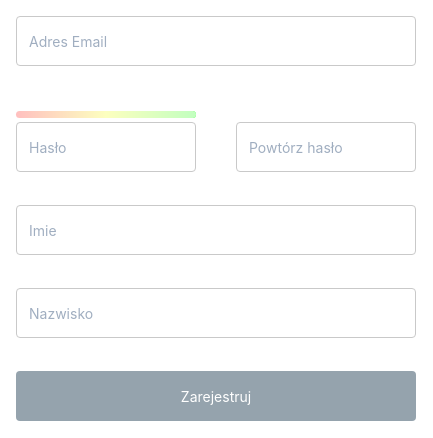
Scenario: Register › should enable submit button after correctly filling form
The width and height of the screenshot is (433, 438).
Expected: the button with test id "submitWrapper" is disabled, [16,371,416,421]
In the field with placeholder "Adres Email": coordinates (216, 41) [16,16,416,66], type "gmail.com"
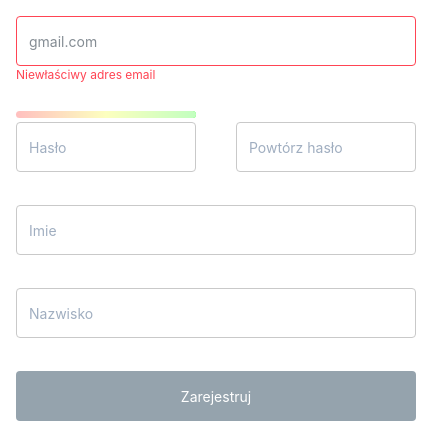
Replace the text in the field with placeholder "Adres Email" with "mockedEmail@gmail.com": coordinates (216, 41) [16,16,416,66]
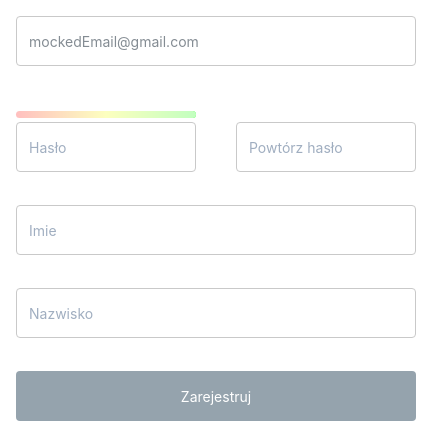
In the password field with placeholder "Hasło": coordinates (106, 147) [16,122,196,172], type "mockPassword"
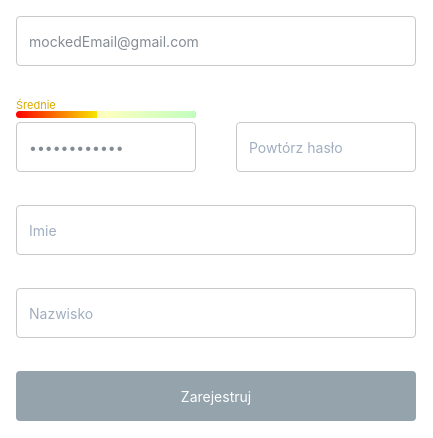
In the password field with placeholder "Powtórz hasło": coordinates (326, 147) [236,122,416,172], type "mockPassword"
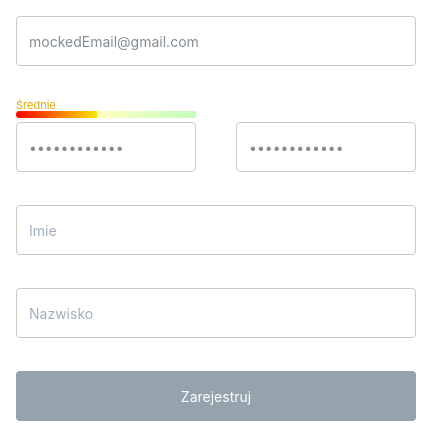
In the field with placeholder "Imie": coordinates (216, 230) [16,205,416,255], type "mockName"
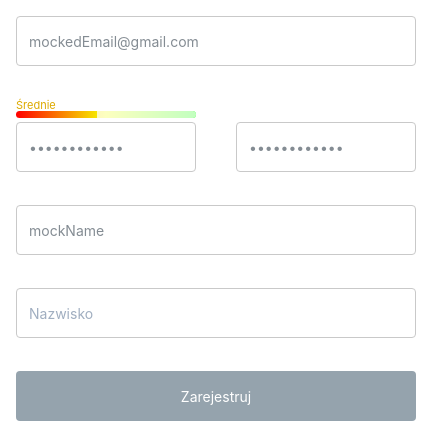
In the field with placeholder "Nazwisko": coordinates (216, 313) [16,288,416,338], type "mockLastName"
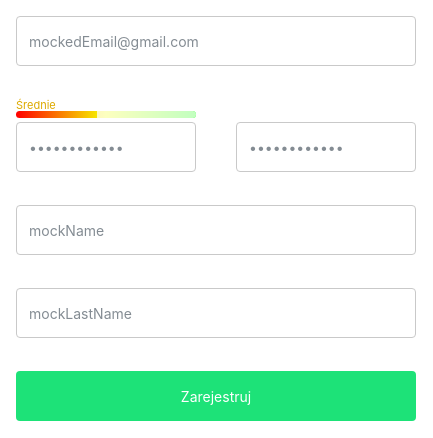
Expected: the button with test id "submitWrapper" is enabled, [16,371,416,421]
